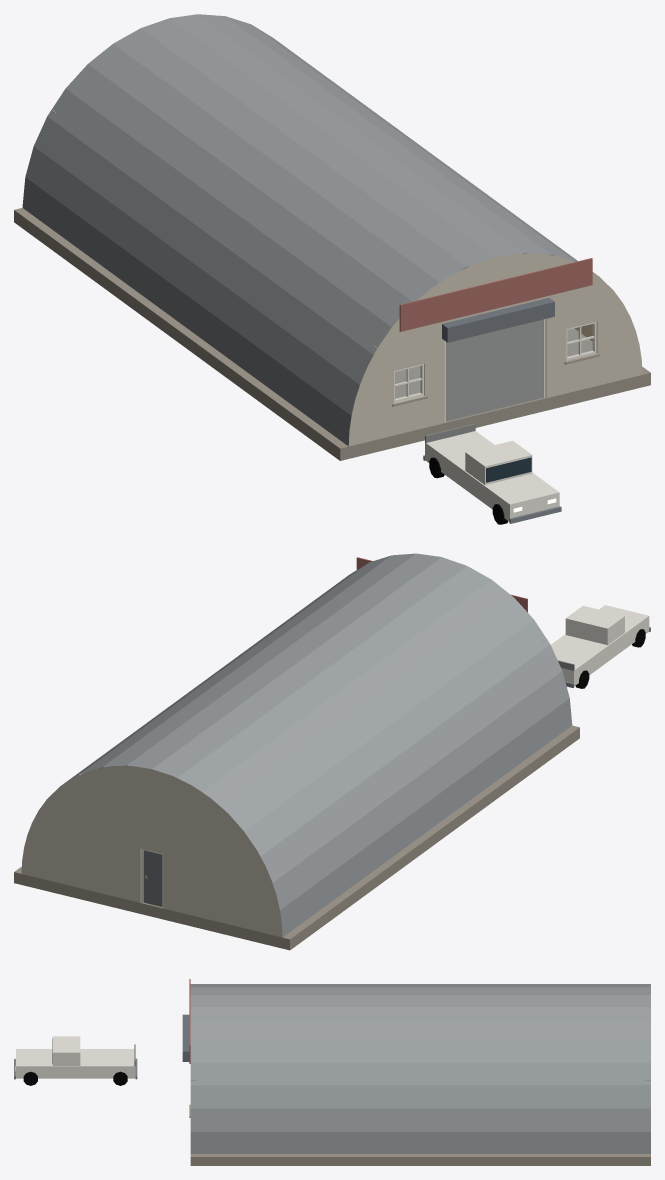
The model's file is quonset.glb.
3 renders of one model, top to bottom at view 1: azimuth 30°, elevation 25°; view 2: azimuth 150°, elevation 25°; view 3: azimuth 270°, elevation 25°, orthographic. The views are drawn at different scales.
Visible parts, largest first — view 1: LOD0; view 2: LOD0, LEAF0; view 3: LOD0.
Boxes of the visible parts, box(x1,y1,x2,y2) form: LOD0: box(14, 14, 650, 524); LOD0: box(14, 553, 650, 950); LEAF0: box(143, 850, 162, 906); LOD0: box(14, 979, 650, 1165).
Size of what is drawn, in the model's own units: 11 by 5.62 by 27.68.
